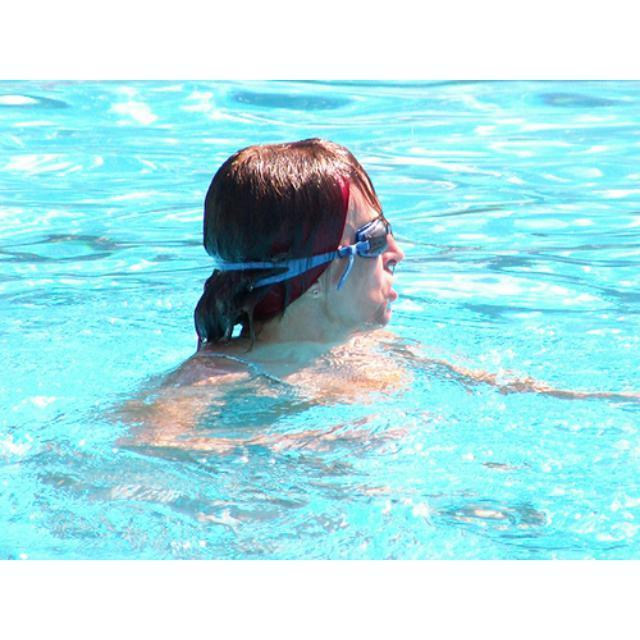human: (159, 130, 402, 456)
